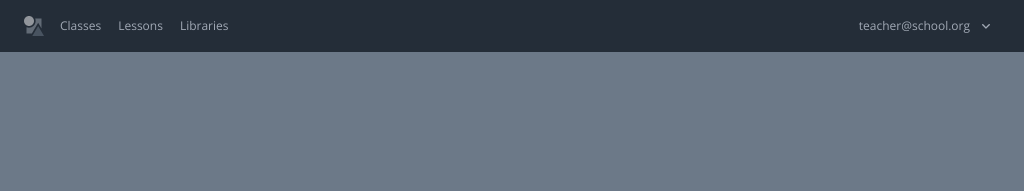
it: Hapara Header › Switches to student mode
Click the button with class "dd-menu-trigger" at x=925, y=26, box [853,12,996,40]
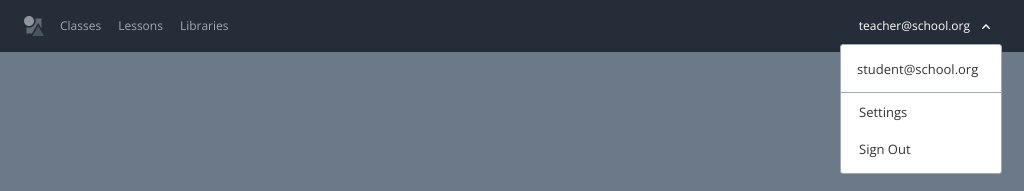
Click the list item with class "dd-menu-header" at x=921, y=69, box [841,45,1001,93]
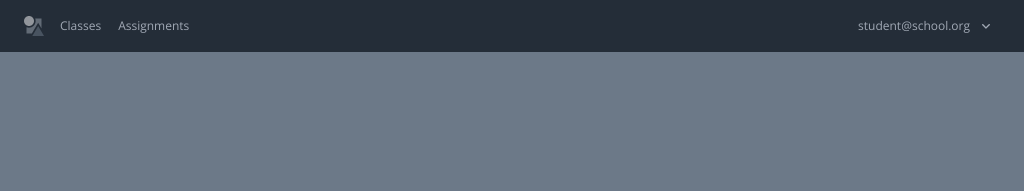
Check: the element with class "header-bar_nav" is shown, box [24,16,206,36]
Check: the element with class "navigation" shows "Assignments", box [60,16,206,36]
Check: the link with class "navigation" no longer shows "Lessons"
